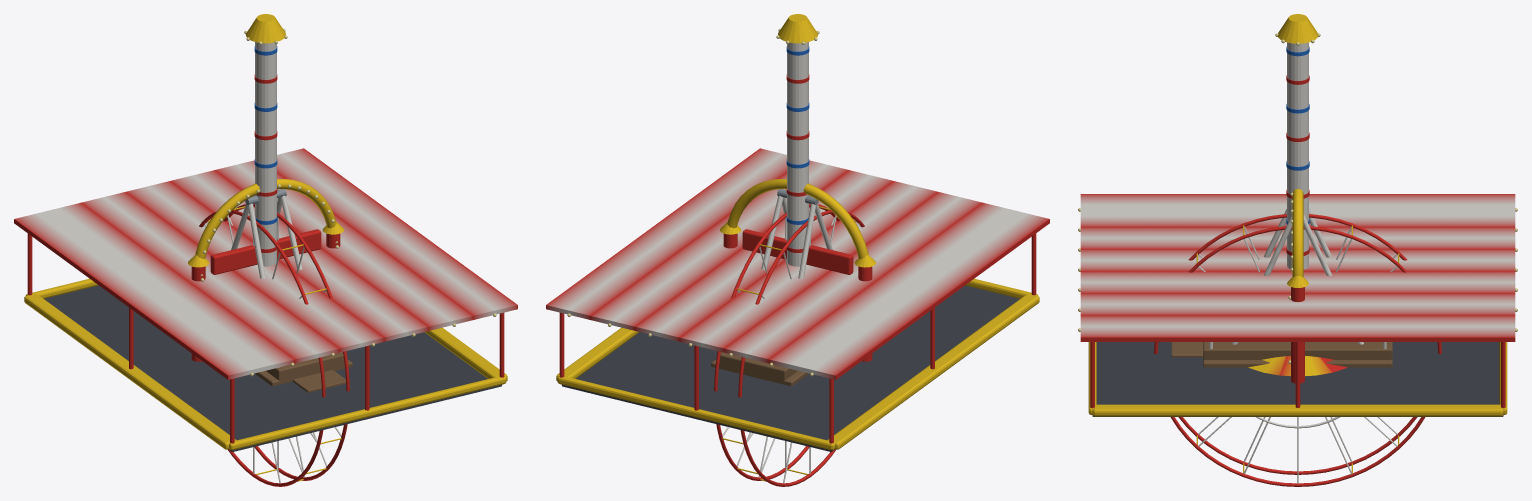
File: feria.glb
3 renders of one model, left to right at view 1: azimuth 30°, elevation 25°; view 2: azimuth 150°, elevation 25°; view 3: azimuth 270°, elevation 25°, orthographic.
Visible parts, largest first — view 1: PistaChoque, TorreCaida, ArcoFeria, NoriaRueda, NoriaSoporte, Estacion; view 2: PistaChoque, TorreCaida, ArcoFeria, NoriaRueda, NoriaSoporte, Estacion; view 3: PistaChoque, NoriaRueda, TorreCaida, Estacion, NoriaSoporte, ArcoFeria, SillasTecho.
Boxes of the visible parts, box(x1,y1,x2,y2) form: PistaChoque: box(14, 148, 517, 451); TorreCaida: box(244, 14, 287, 266); ArcoFeria: box(188, 179, 343, 361); NoriaRueda: box(199, 204, 349, 486); NoriaSoporte: box(231, 189, 352, 392); Estacion: box(266, 352, 344, 381); PistaChoque: box(546, 148, 1049, 451); TorreCaida: box(776, 14, 819, 266); ArcoFeria: box(720, 179, 875, 361); NoriaRueda: box(714, 204, 864, 486); NoriaSoporte: box(711, 189, 832, 386); Estacion: box(719, 352, 797, 381); PistaChoque: box(1078, 194, 1517, 416); NoriaRueda: box(1154, 214, 1441, 486); TorreCaida: box(1275, 14, 1320, 269); Estacion: box(1203, 342, 1392, 359); NoriaSoporte: box(1171, 209, 1392, 367); ArcoFeria: box(1287, 189, 1308, 383); SillasTecho: box(1248, 356, 1347, 376).
Size of the model in its own units: 21.5 by 32.32 by 27.84.
